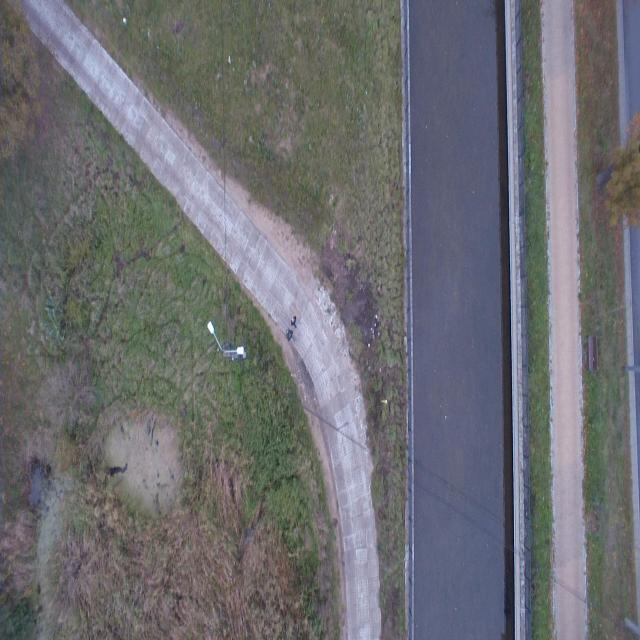p3rson: (287, 330, 296, 342), (292, 316, 298, 328)
